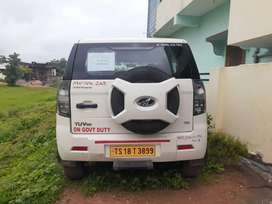TS18T3899: (110, 145, 155, 156)
